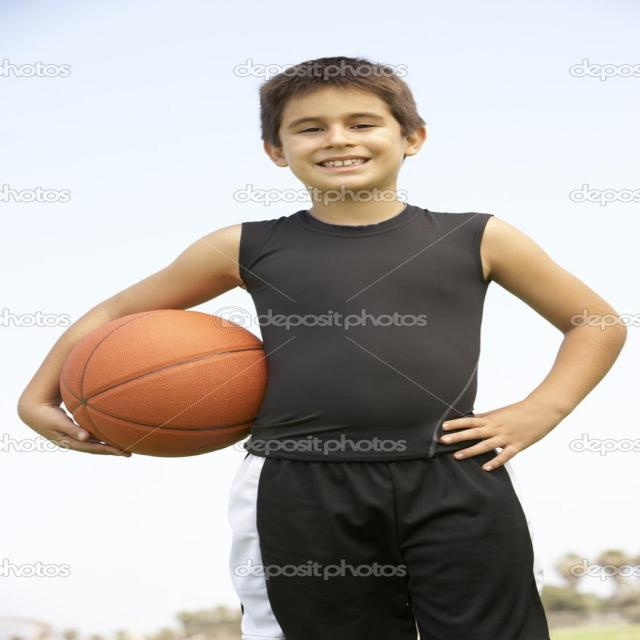Face: (272, 75, 432, 198)
